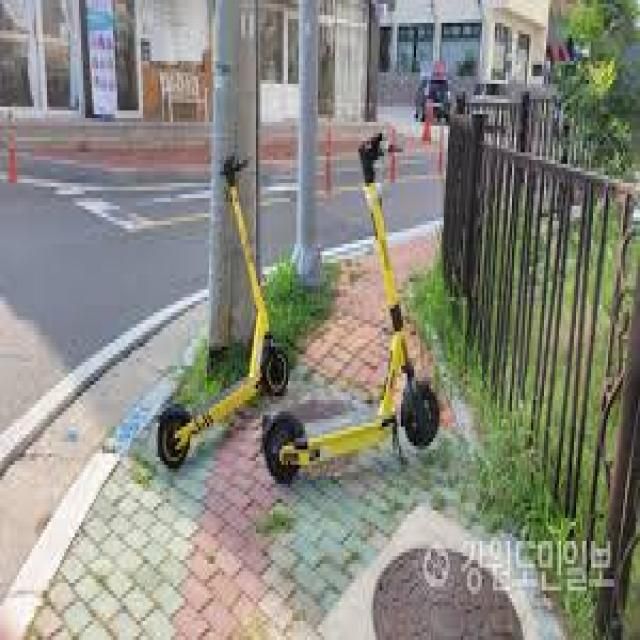curb: (0, 381, 166, 640)
kick-board: (260, 133, 457, 484), (156, 160, 292, 469)
lane: (0, 293, 205, 480)
road: (0, 183, 209, 434)
sidewalk: (17, 267, 486, 640)
verge: (0, 324, 183, 610)
